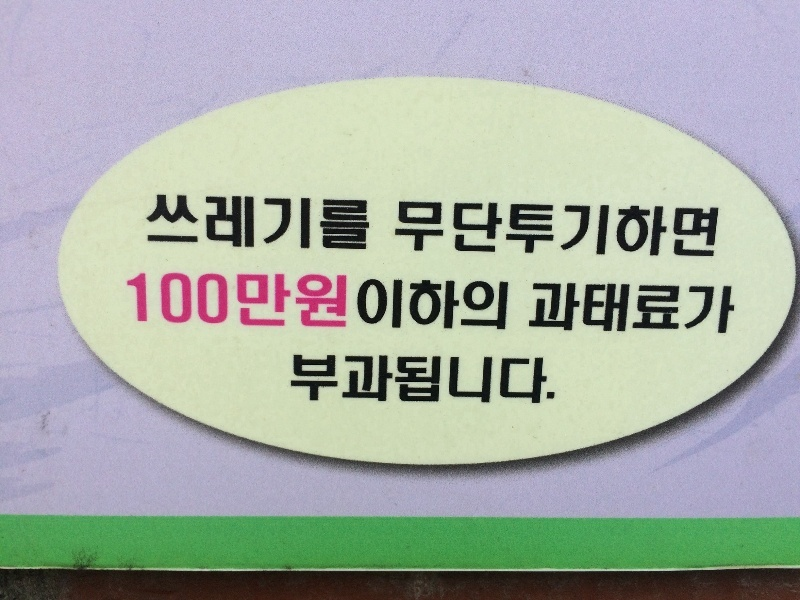text: (161, 191, 176, 253), (177, 191, 192, 253), (193, 191, 208, 253), (209, 191, 224, 253), (225, 191, 240, 253), (241, 191, 256, 253), (257, 191, 272, 253), (273, 191, 288, 253), (289, 191, 304, 253), (305, 191, 320, 253), (321, 191, 336, 253), (337, 191, 352, 253), (353, 191, 368, 253), (401, 198, 416, 260), (417, 198, 432, 260), (433, 198, 448, 260), (449, 198, 464, 260), (465, 198, 480, 260), (481, 198, 496, 260), (497, 198, 512, 260), (513, 198, 528, 260), (529, 198, 544, 260), (545, 198, 560, 260), (561, 198, 576, 260), (577, 198, 592, 260), (593, 198, 608, 260), (609, 198, 624, 260), (625, 198, 640, 260), (641, 198, 656, 260), (657, 198, 672, 260), (673, 198, 688, 260), (689, 198, 704, 260), (705, 198, 720, 260), (129, 272, 144, 332), (145, 272, 160, 332), (161, 272, 176, 332), (177, 272, 192, 332), (193, 272, 208, 332), (209, 272, 224, 332), (225, 272, 240, 332), (241, 272, 256, 332), (257, 272, 272, 332), (273, 272, 288, 332), (289, 272, 304, 332), (305, 272, 320, 332), (321, 272, 336, 332), (289, 350, 304, 409), (305, 350, 320, 409), (321, 350, 336, 409), (337, 350, 352, 409), (353, 350, 368, 409), (369, 350, 384, 409), (385, 350, 400, 409), (401, 350, 416, 409), (417, 350, 432, 409), (433, 350, 448, 409), (449, 350, 464, 409), (465, 350, 480, 409), (481, 350, 496, 409), (497, 350, 512, 409), (513, 350, 528, 409), (529, 350, 544, 409), (369, 276, 384, 334), (385, 276, 400, 334), (401, 276, 416, 334), (417, 276, 432, 334), (433, 276, 448, 334), (449, 276, 464, 334), (465, 276, 480, 334), (481, 276, 496, 334), (497, 276, 512, 334), (545, 278, 560, 336), (561, 278, 576, 336), (577, 278, 592, 336), (593, 278, 608, 336), (609, 278, 624, 336), (625, 278, 640, 336), (641, 278, 656, 336), (657, 278, 672, 336), (673, 278, 688, 336), (689, 278, 704, 336), (705, 278, 720, 336), (721, 278, 736, 336), (337, 272, 351, 332), (530, 278, 544, 336), (147, 191, 160, 253), (545, 350, 557, 409), (357, 276, 368, 334), (395, 198, 400, 260), (123, 272, 128, 332), (721, 198, 723, 260), (737, 278, 739, 336), (369, 191, 370, 253)
